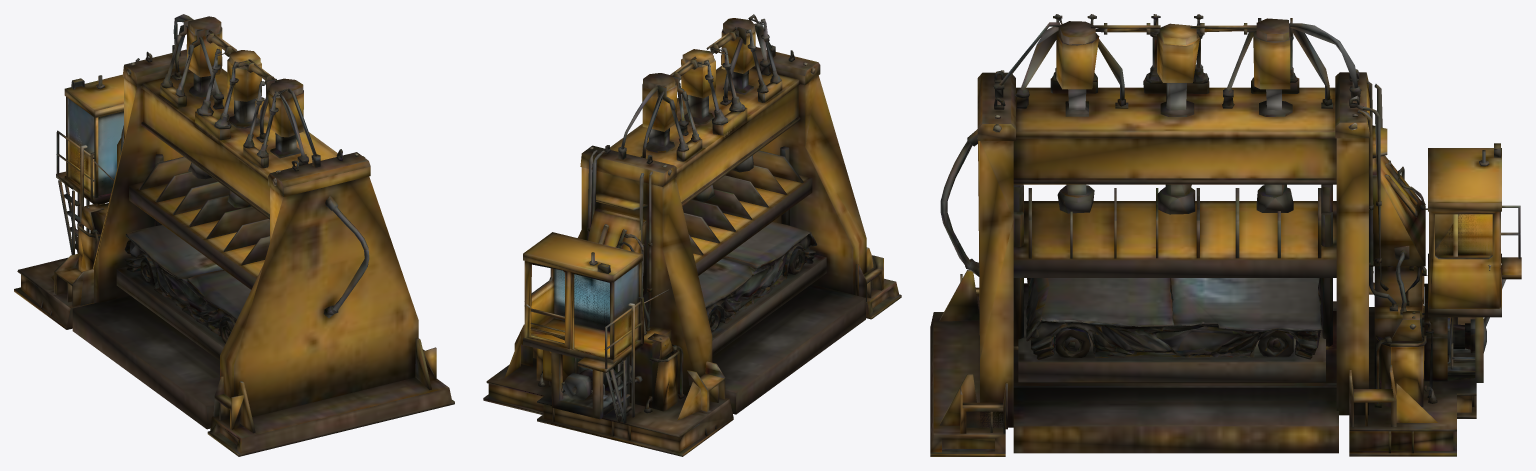
File: carCrusher.glb
3 views of the same model, side by side, from view 1: azimuth 30°, elevation 25°; view 2: azimuth 150°, elevation 25°; view 3: azimuth 270°, elevation 25° (orthographic). The views are drawn at different scales.
Visible parts, largest first — view 1: tripo_node_a8be7b95-3a65-4117-8ceb-89f99b07632b; view 2: tripo_node_a8be7b95-3a65-4117-8ceb-89f99b07632b; view 3: tripo_node_a8be7b95-3a65-4117-8ceb-89f99b07632b.
Part boxes in pixels (x1,y1,x2,y2): tripo_node_a8be7b95-3a65-4117-8ceb-89f99b07632b: [14, 14, 454, 456]; tripo_node_a8be7b95-3a65-4117-8ceb-89f99b07632b: [483, 14, 901, 456]; tripo_node_a8be7b95-3a65-4117-8ceb-89f99b07632b: [930, 14, 1521, 456].
Bounding box in the file's own units: 0.5098 × 0.6855 × 0.998.
1 material, 1 textured.
